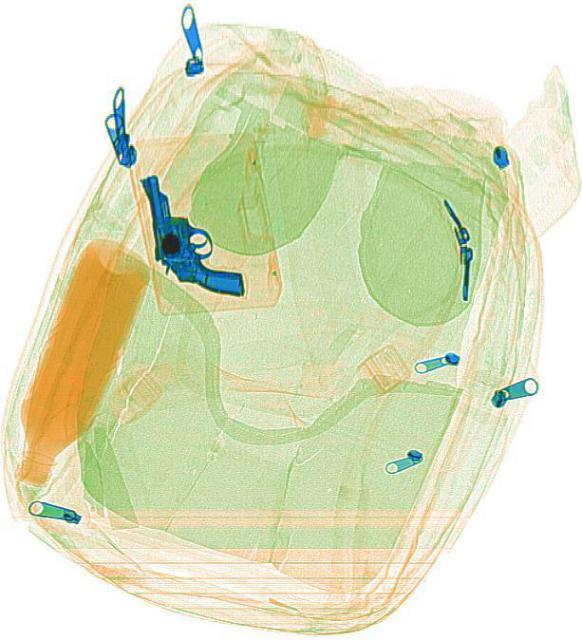Gun: (108, 168, 261, 320)
